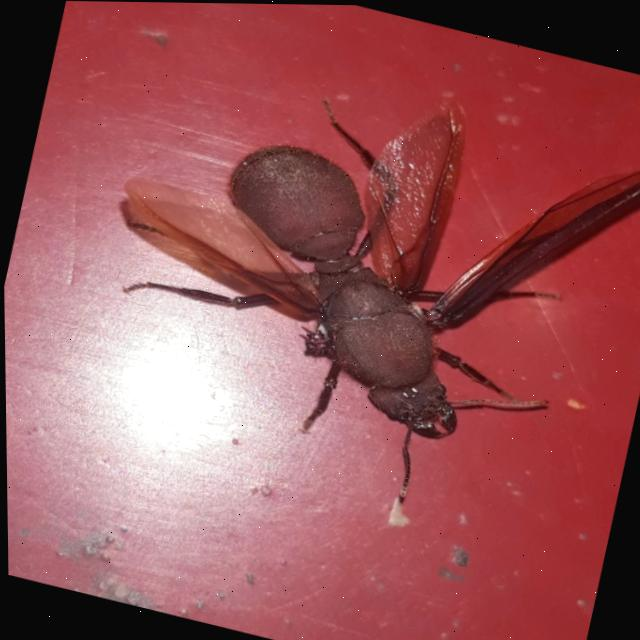Alive-Female-Alate: (63, 9, 640, 553)
